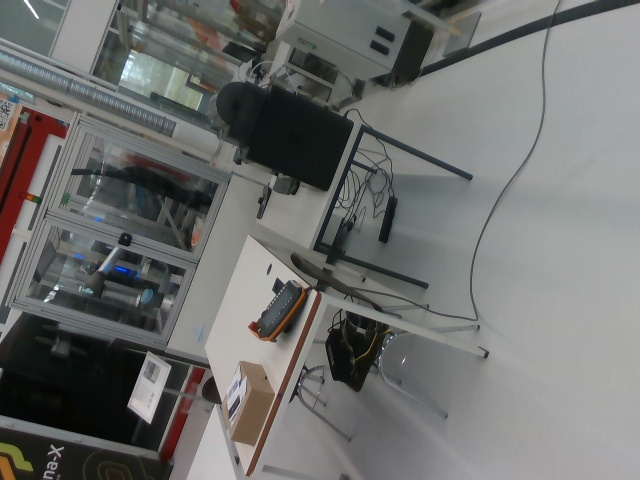Computer: (216, 80, 354, 192)
Robot arm: (86, 246, 164, 314)
